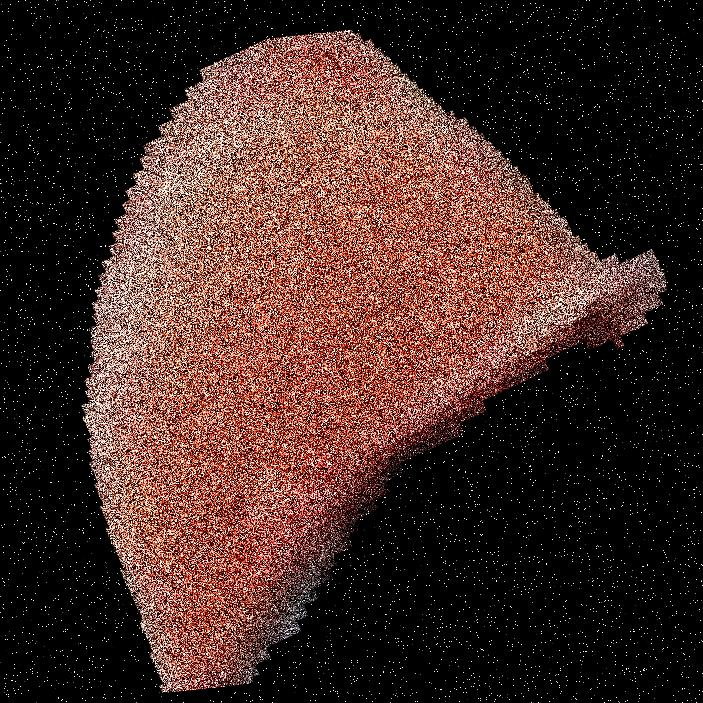Capacete: (213, 0, 430, 702)
